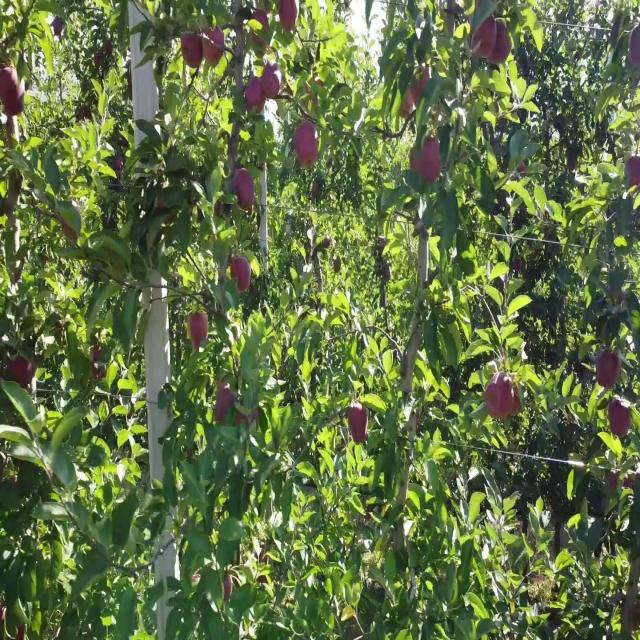apple: (484, 376, 512, 421), (408, 63, 432, 114), (296, 120, 320, 169), (596, 348, 621, 391), (608, 398, 632, 441), (404, 78, 428, 119), (424, 135, 443, 185), (476, 14, 496, 60), (8, 355, 33, 391), (0, 71, 23, 110), (204, 28, 226, 68), (180, 35, 204, 71), (492, 21, 512, 64), (4, 78, 24, 119), (236, 170, 256, 210), (472, 21, 492, 60), (232, 255, 252, 293), (252, 7, 270, 48), (348, 405, 368, 441), (92, 35, 113, 69), (280, 0, 299, 36), (216, 383, 238, 414), (348, 412, 368, 446), (264, 63, 282, 100), (248, 78, 267, 112), (608, 469, 633, 494), (188, 312, 208, 343), (304, 78, 324, 108), (156, 199, 176, 228), (236, 405, 260, 428), (4, 92, 24, 119), (404, 85, 419, 119), (92, 348, 107, 380), (408, 149, 423, 178), (512, 383, 523, 416), (629, 156, 640, 188), (92, 348, 104, 377), (64, 220, 78, 242), (216, 405, 230, 427), (632, 28, 640, 66), (188, 334, 207, 350), (112, 156, 124, 180), (224, 575, 232, 604), (384, 263, 392, 283), (216, 199, 223, 219), (56, 21, 64, 37), (20, 625, 27, 639)
